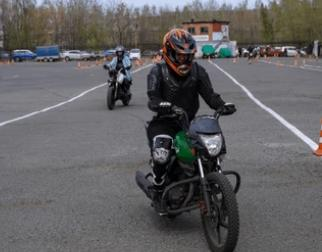front: (186, 114, 232, 240), (107, 72, 120, 112)
